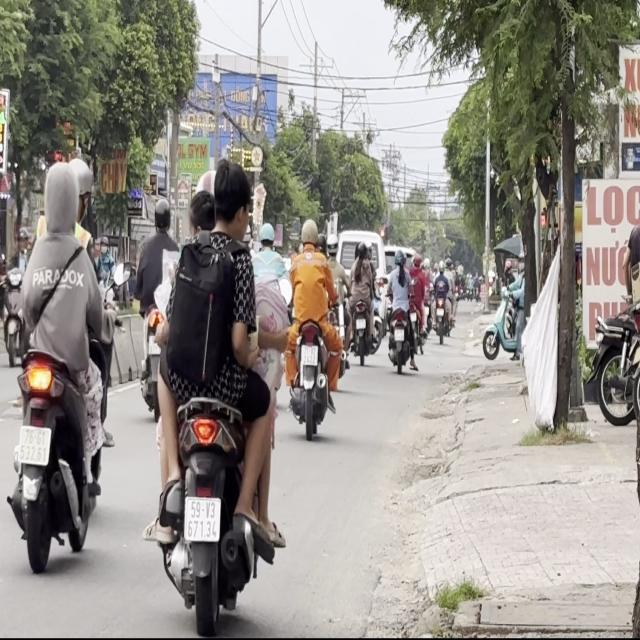helmet: (40, 159, 80, 235), (67, 157, 93, 216), (299, 218, 318, 253), (153, 196, 172, 231)
licenseplate: (141, 156, 288, 633), (5, 154, 113, 574), (285, 214, 344, 436), (135, 194, 183, 420)
motorcyclist: (211, 158, 252, 240), (188, 191, 214, 237)
nohelmet: (184, 497, 220, 541), (18, 425, 51, 465), (301, 344, 318, 365)
